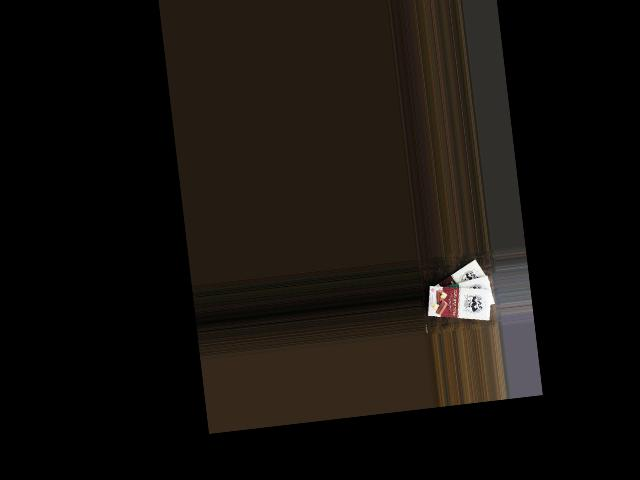chocolate: (422, 257, 493, 306)
